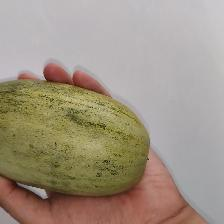gua: (11, 81, 139, 181)
